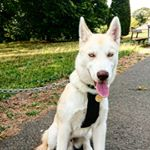puppy: (37, 13, 125, 150)
